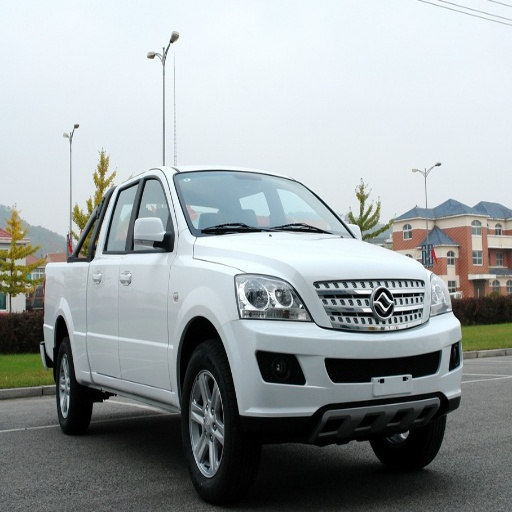back_left_light: (82, 177, 141, 375)
back_right_light: (224, 278, 462, 434)
front_bumper: (175, 171, 352, 237)
front_left_door: (430, 279, 451, 315)
front_left_light: (115, 172, 177, 388)
front_right_door: (236, 275, 312, 321)
front_right_light: (202, 231, 428, 280)
trunk: (183, 341, 260, 505), (57, 340, 91, 434), (379, 423, 442, 466)
